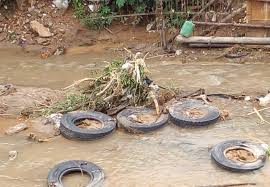tire: (211, 140, 267, 173), (59, 111, 117, 140), (169, 103, 221, 132), (48, 161, 105, 187), (116, 108, 169, 134)
